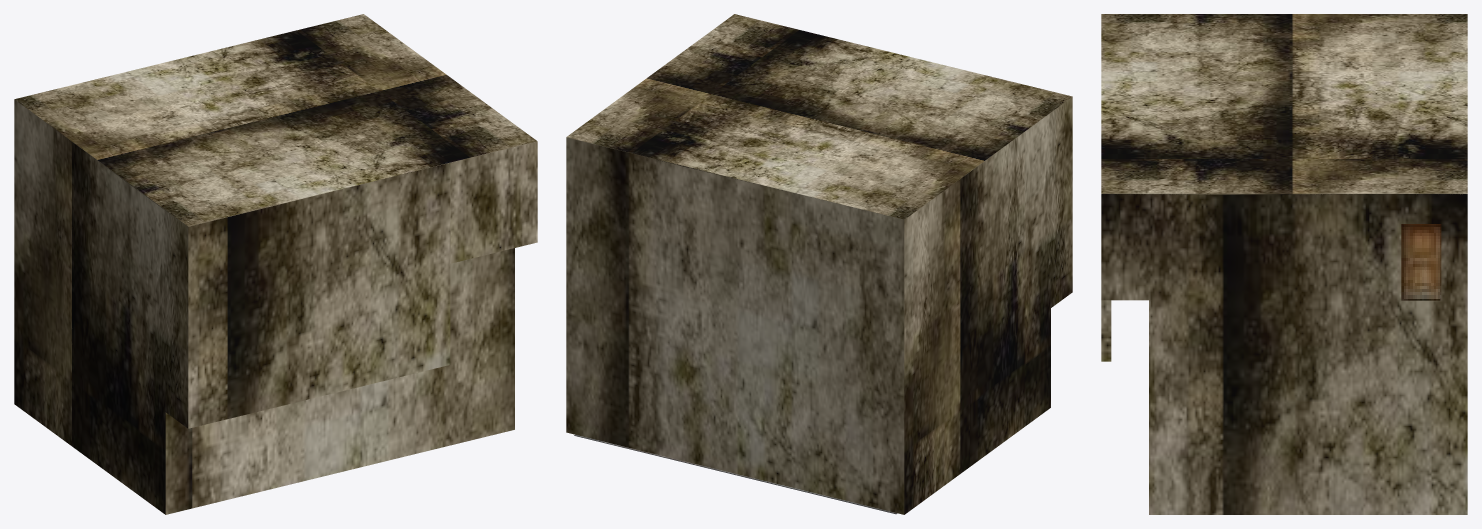
Rendered from gizlliYer.fbx.
The picture shows the model from 3 angles, left to right: view 1: azimuth 30°, elevation 25°; view 2: azimuth 150°, elevation 25°; view 3: azimuth 270°, elevation 25°; orthographic projection. The views are drawn at different scales.
Parts seen in each view (by area): view 1: DuvarKöşe.021, zemin.006; view 2: DuvarKöşe.021, zemin.006, zemin; view 3: DuvarKöşe.021, zemin.006, Cube.050.
Boxes of the visible parts, x1=… form: DuvarKöşe.021: x1=14, y1=100, x2=537, y2=514; zemin.006: x1=14, y1=14, x2=537, y2=226; DuvarKöşe.021: x1=566, y1=97, x2=1072, y2=514; zemin.006: x1=566, y1=14, x2=1072, y2=219; zemin: x1=574, y1=434, x2=897, y2=514; DuvarKöşe.021: x1=1101, y1=194, x2=1467, y2=514; zemin.006: x1=1101, y1=14, x2=1467, y2=194; Cube.050: x1=1401, y1=224, x2=1441, y2=300.
Bounding box in the file's own units: 857 × 717 × 738.
Materials: 42 (28 with a texture image).
